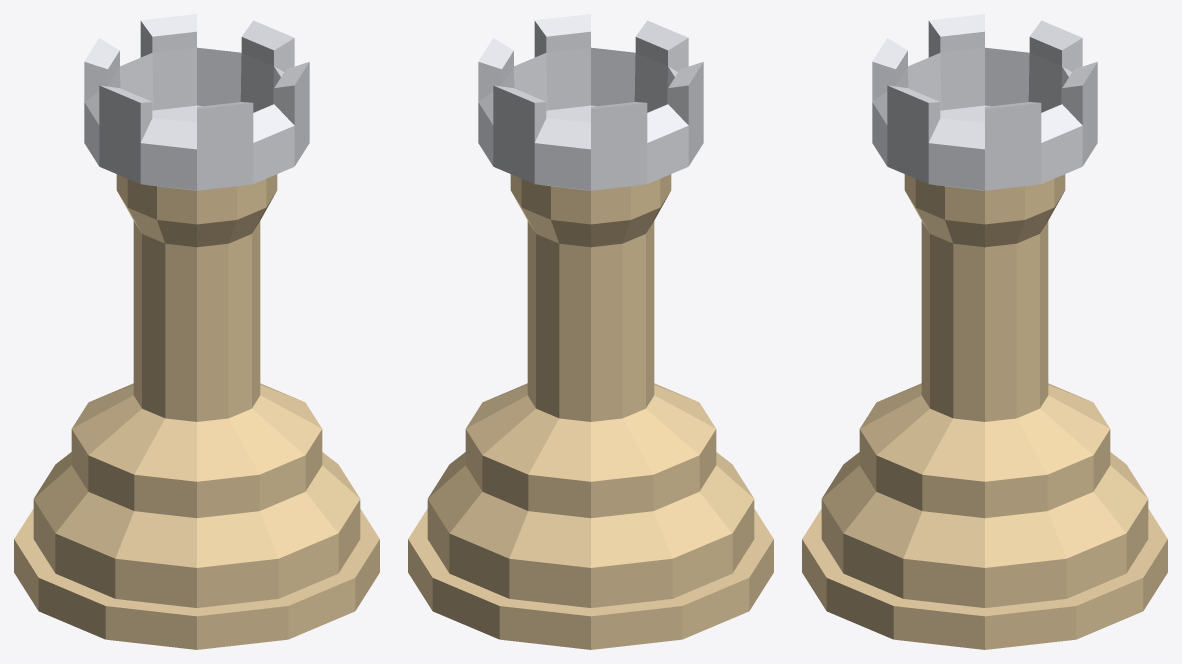
The model's file is lowpoly_r_w.glb.
3 views of the same model, side by side, from view 1: azimuth 30°, elevation 25°; view 2: azimuth 150°, elevation 25°; view 3: azimuth 270°, elevation 25° (orthographic).
Visible parts, largest first — view 1: x; view 2: x; view 3: x.
Part boxes in pixels (<box>): x: <box>14,14,379,649</box>; x: <box>408,14,773,649</box>; x: <box>802,14,1167,649</box>.
Size of the model in its own units: 0.5837 by 0.9 by 0.5837.
